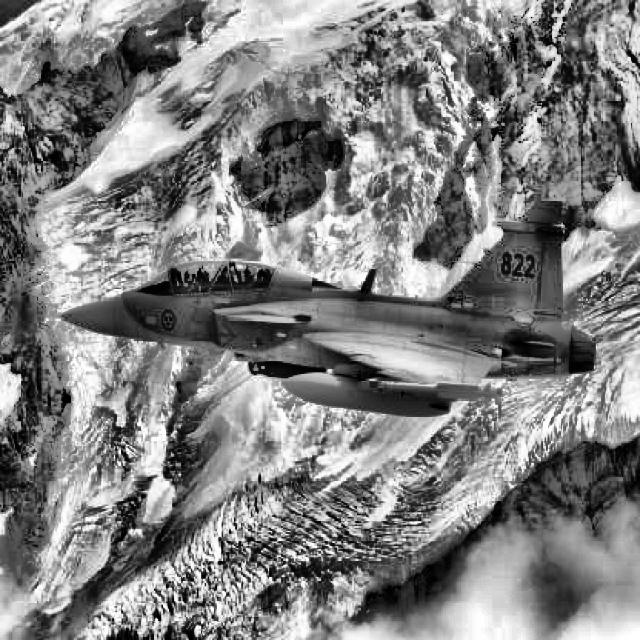JAS39: (31, 198, 595, 416)
